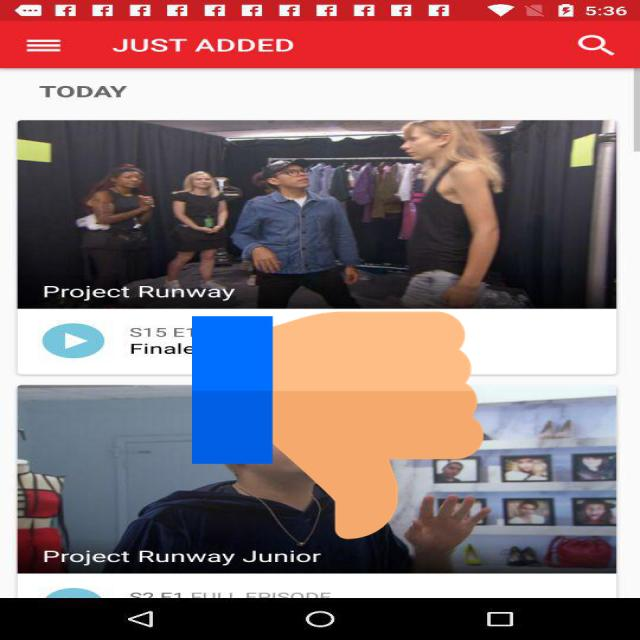obstruction: (192, 306, 484, 545)
